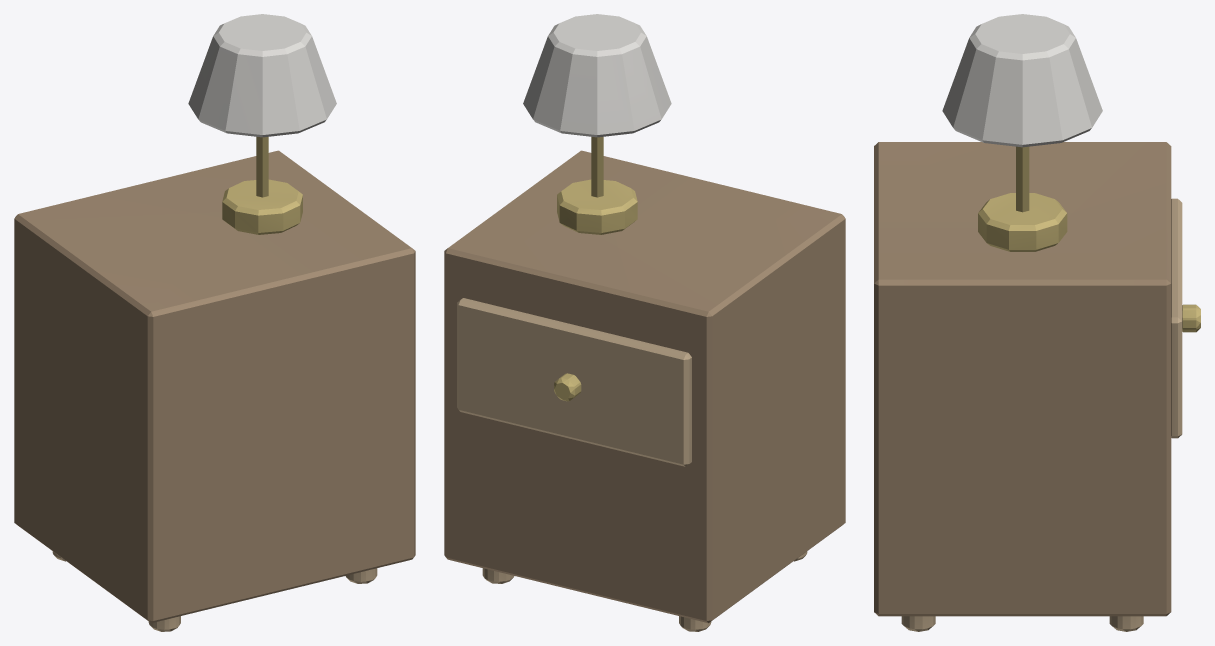
The model's file is furn_nightstand__walnut.glb.
3 renders of one model, left to right at view 1: azimuth 30°, elevation 25°; view 2: azimuth 150°, elevation 25°; view 3: azimuth 270°, elevation 25°, orthographic. The views are drawn at different scales.
Bounding box in the file's own units: 0.45 × 0.84 × 0.44.
